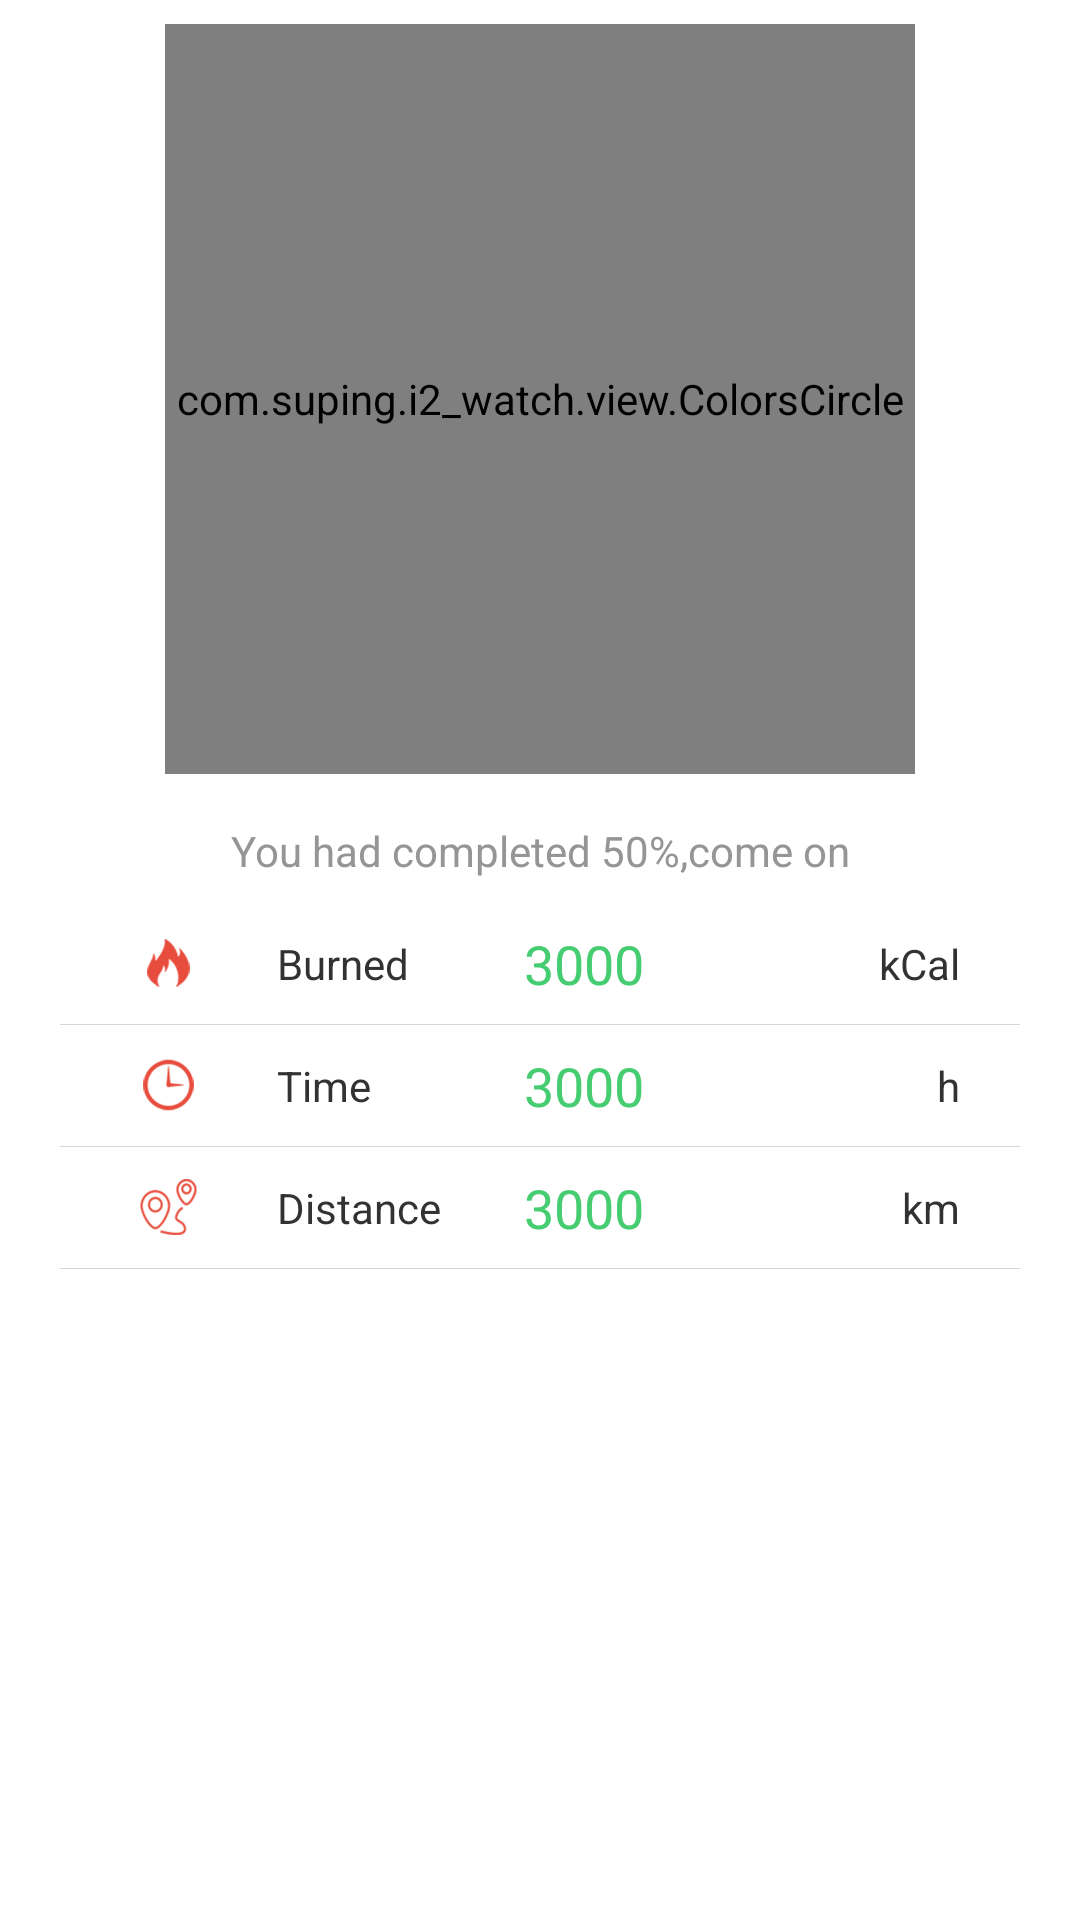

Where to tap for icons on this 1080×1920 app screen, as [x,y]:
fire: [168,963]
